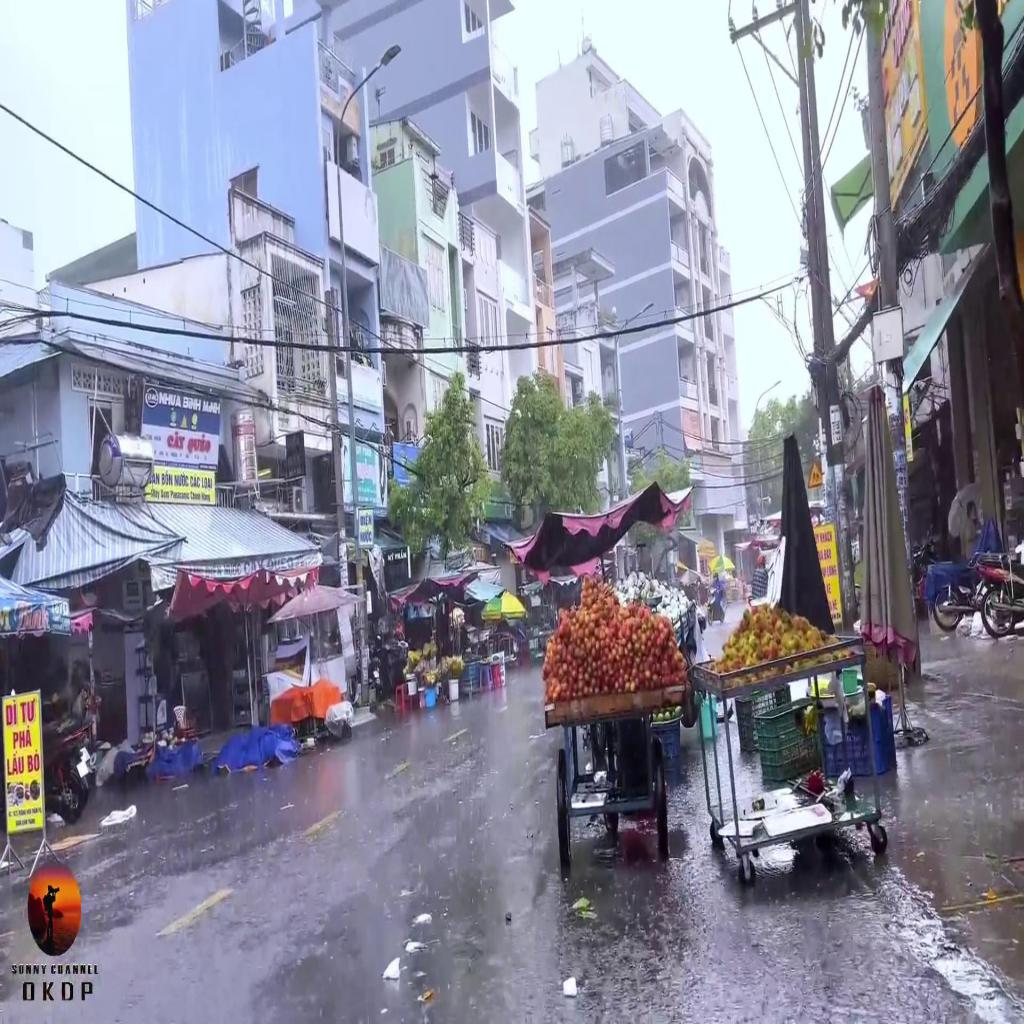chu_y_tre_em: (808, 458, 824, 490)
